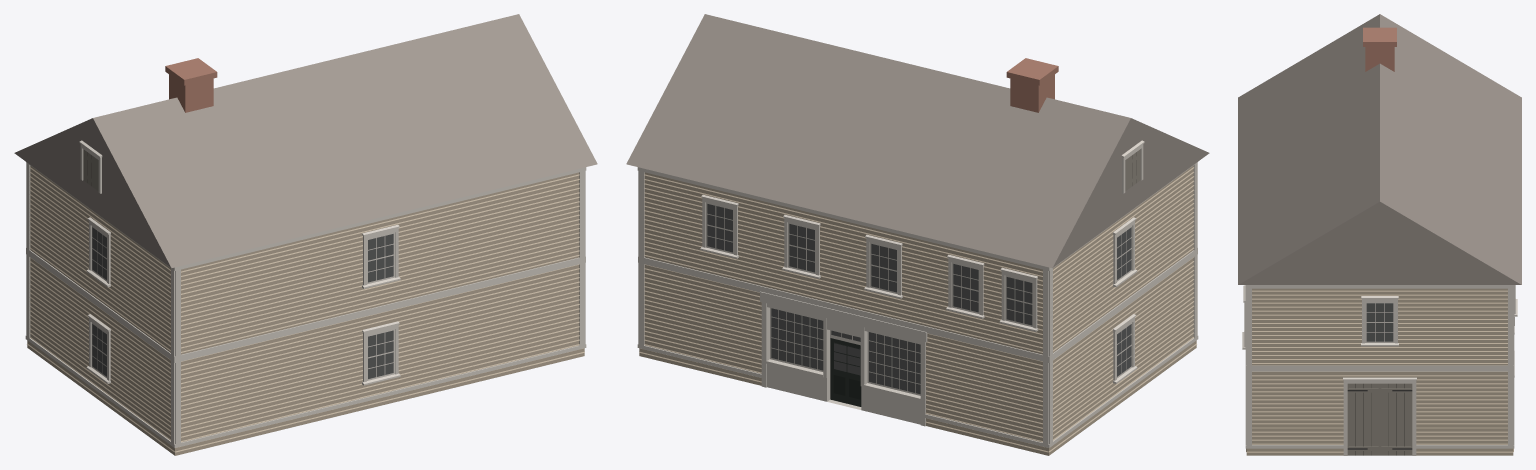
File: peck_store__frame_1833.glb
The picture shows the model from 3 angles, left to right: view 1: azimuth 30°, elevation 25°; view 2: azimuth 150°, elevation 25°; view 3: azimuth 270°, elevation 25°; orthographic projection. The views are drawn at different scales.
Parts seen in each view (by area): view 1: peck_store__frame_1833; view 2: peck_store__frame_1833; view 3: peck_store__frame_1833.
Boxes of the visible parts, x1,y1,x2,y2 form: peck_store__frame_1833: [14, 14, 597, 455]; peck_store__frame_1833: [626, 14, 1209, 455]; peck_store__frame_1833: [1238, 14, 1521, 455].
Bounding box in the file's own units: 12.79 × 8.85 × 8.12.
